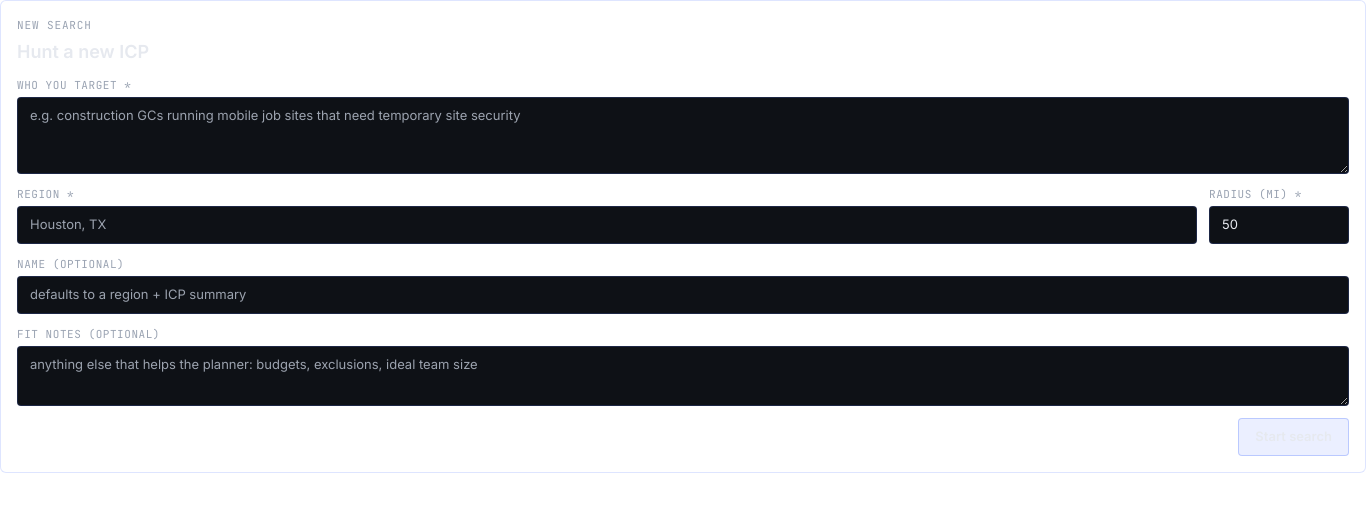
Test case: NewSearchForm › surfaces an error when the API returns non-2xx
Replace the text in the text box with test id "new-search-icp" with "GCs" at {"x": 683, "y": 135}, box [17,97,1349,174]
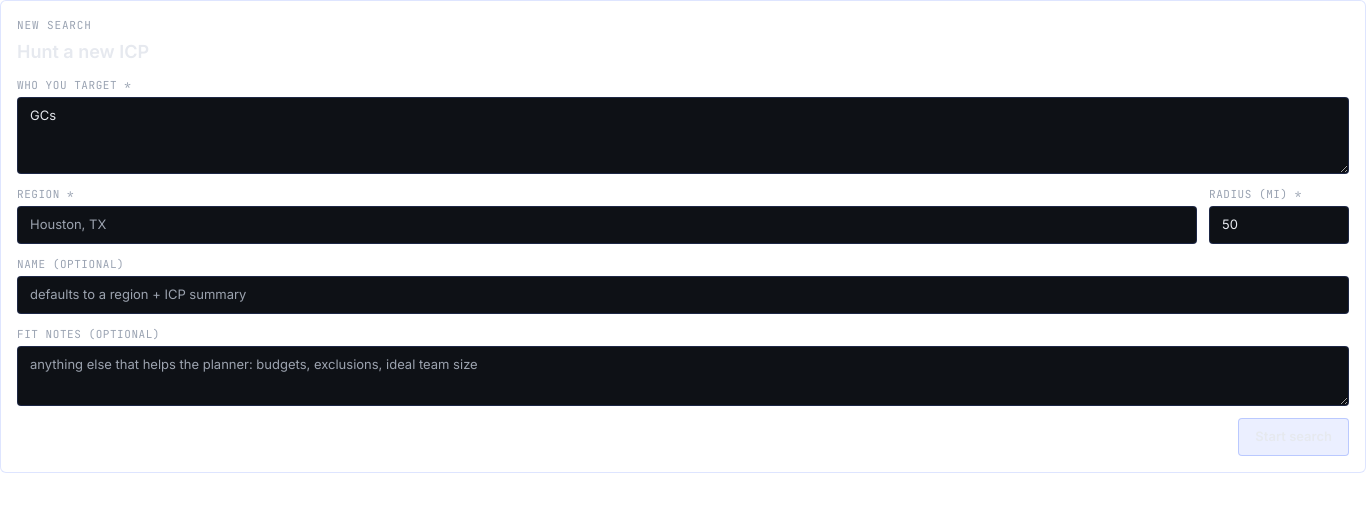
Type "TX" into the field with test id "new-search-region" at {"x": 607, "y": 225}, box [17,206,1197,244]
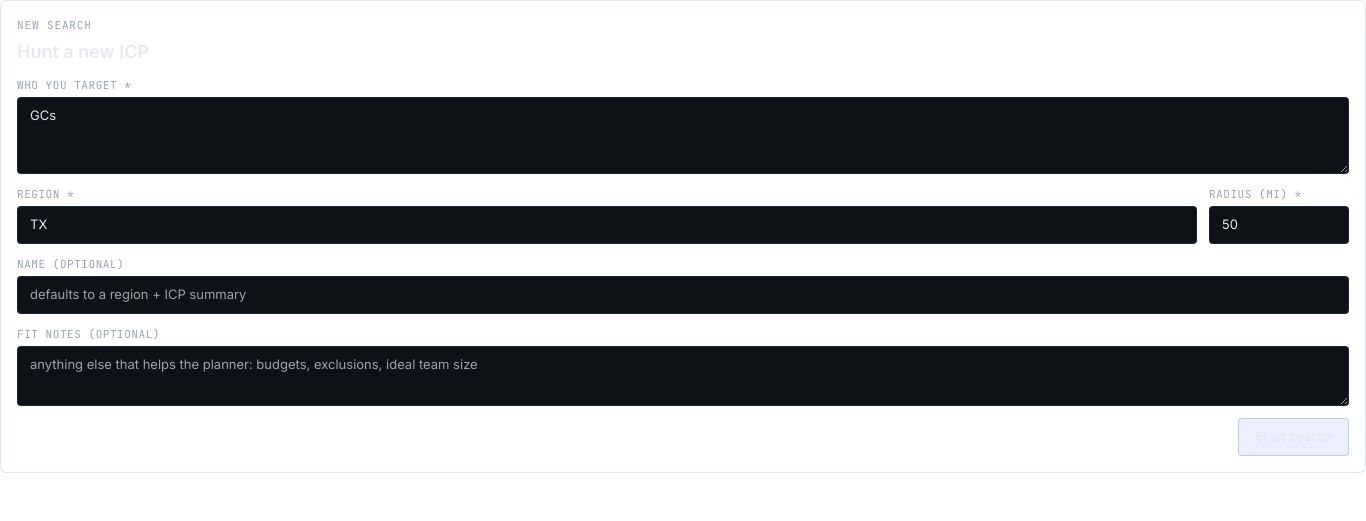
Click the button with test id "new-search-submit" at {"x": 1294, "y": 437}, box [1238,418,1349,456]
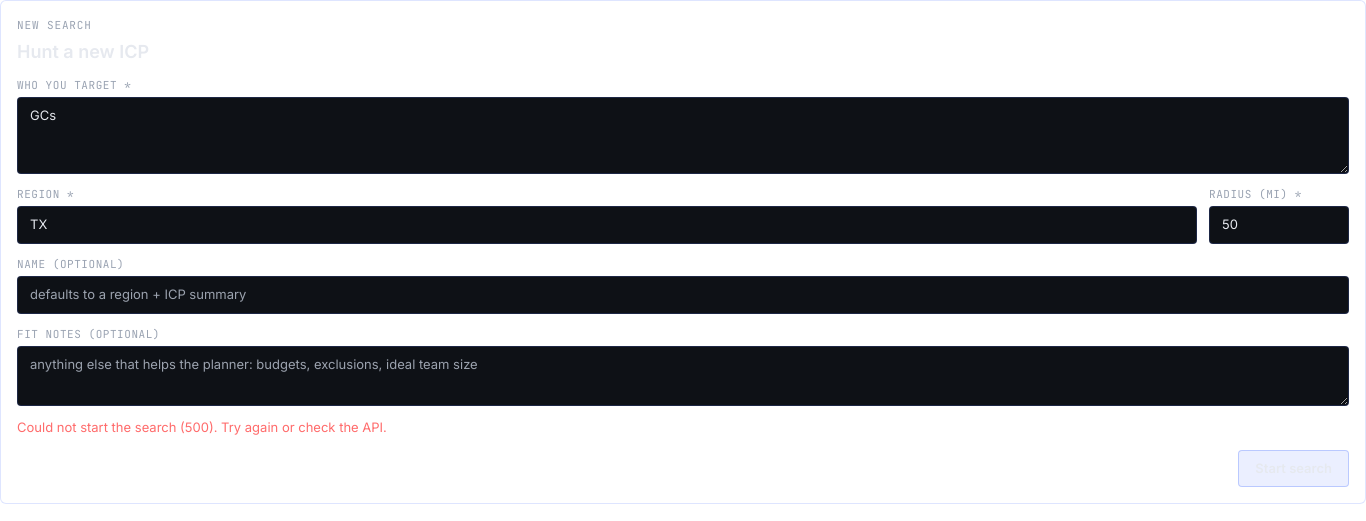
Expected: the message with test id "new-search-error" shows "500", [17,419,387,435]
